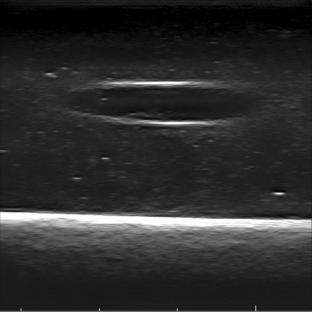vessel: (64, 80, 252, 126)
